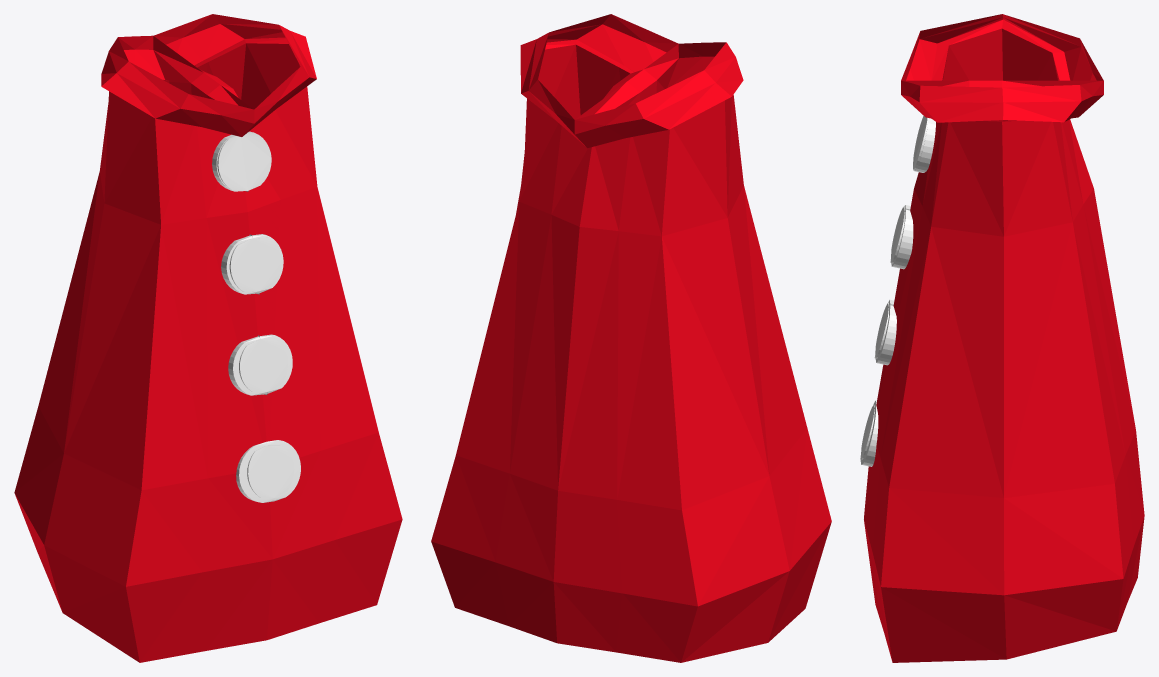
Rendered from tester.dae.
3 renders of one model, left to right at view 1: azimuth 30°, elevation 25°; view 2: azimuth 150°, elevation 25°; view 3: azimuth 270°, elevation 25°, orthographic. The views are drawn at different scales.
Parts seen in each view (by area): view 1: shirt_001; view 2: shirt_001; view 3: shirt_001.
Boxes of the visible parts, box(x1,y1,x2,y2) form: shirt_001: box(14, 14, 402, 662); shirt_001: box(431, 14, 831, 662); shirt_001: box(860, 14, 1144, 662).
Bounding box in the file's own units: 1274 × 982 × 2112.
Materials: 2 (2 with a texture image).
